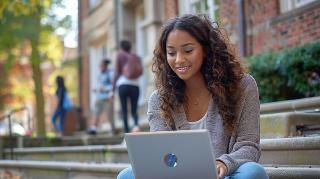person - v3 P: (148, 15, 268, 178), (113, 40, 140, 132), (88, 59, 116, 134), (52, 76, 66, 136)
